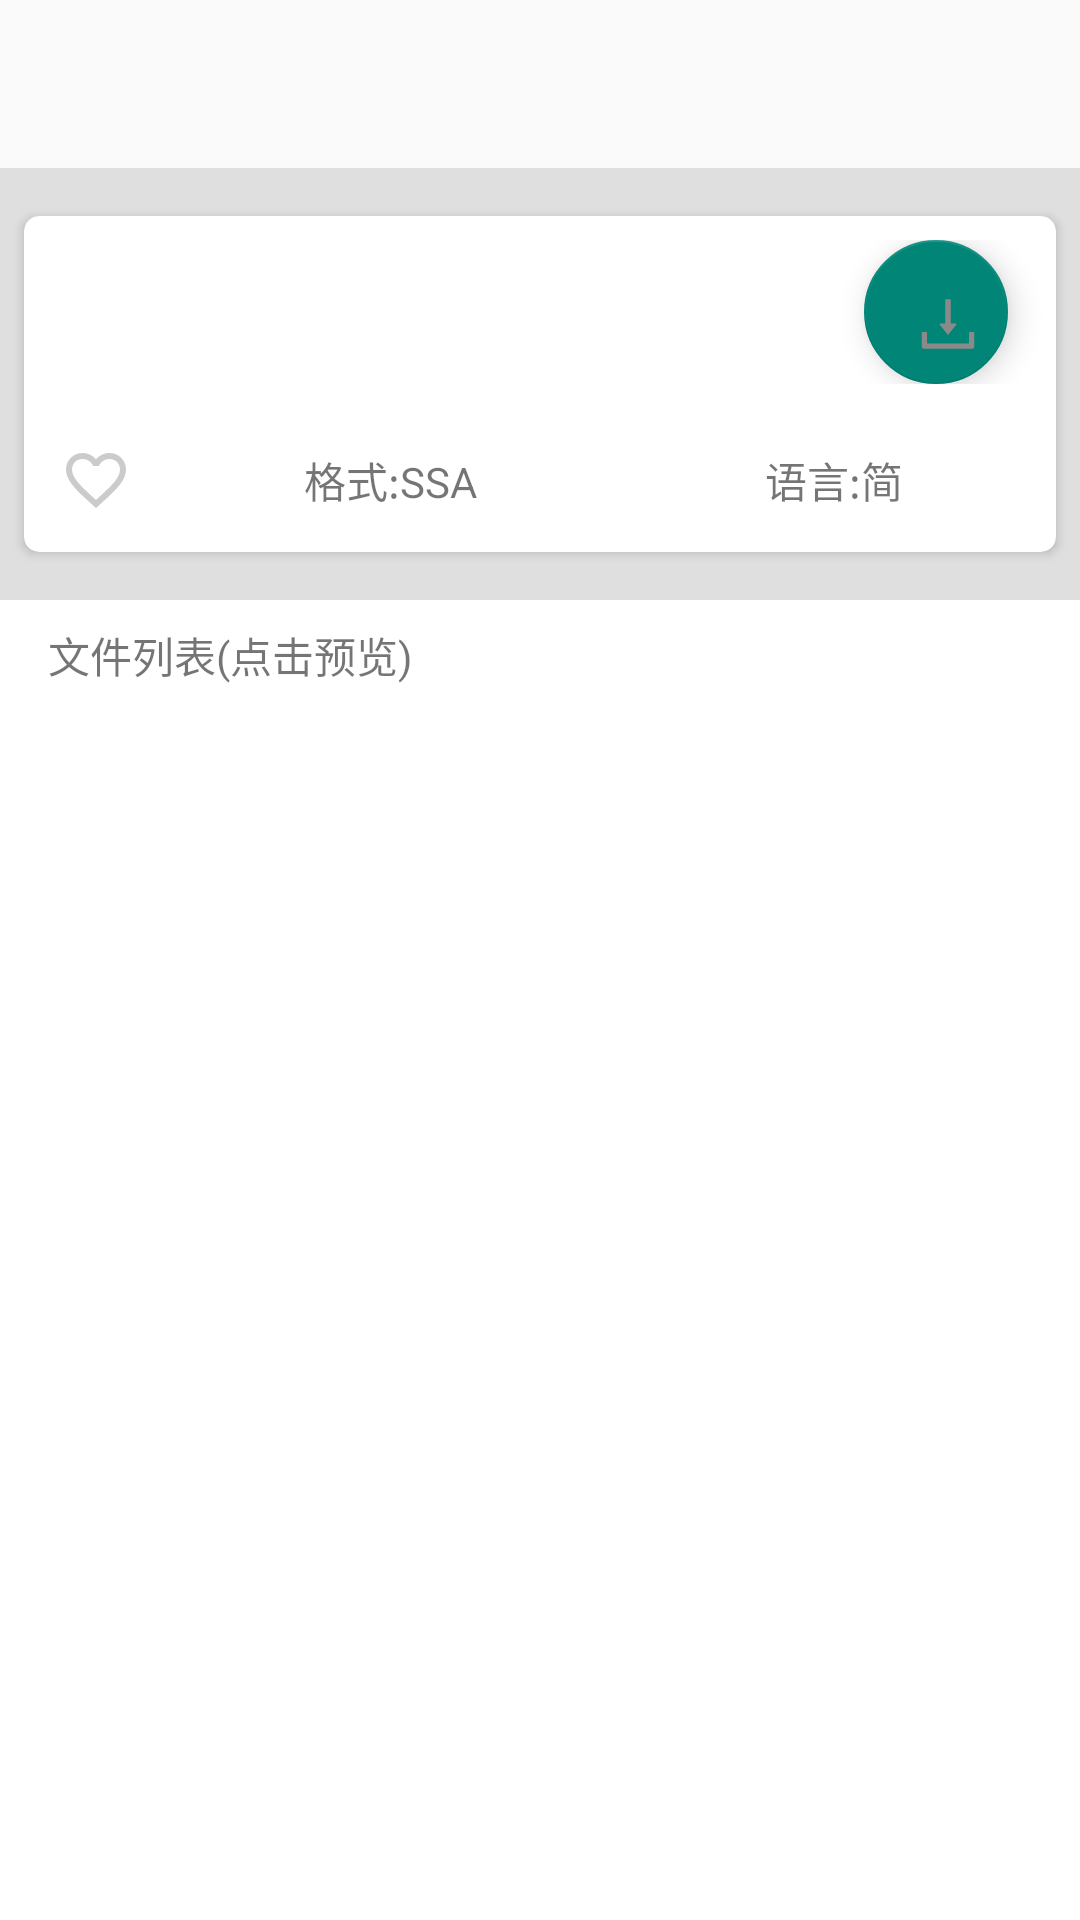

Where to tap for icons on this 1080 x 1920 app screen, as (x=x, y=y):
download: (x=936, y=312)
收藏: (x=96, y=480)
